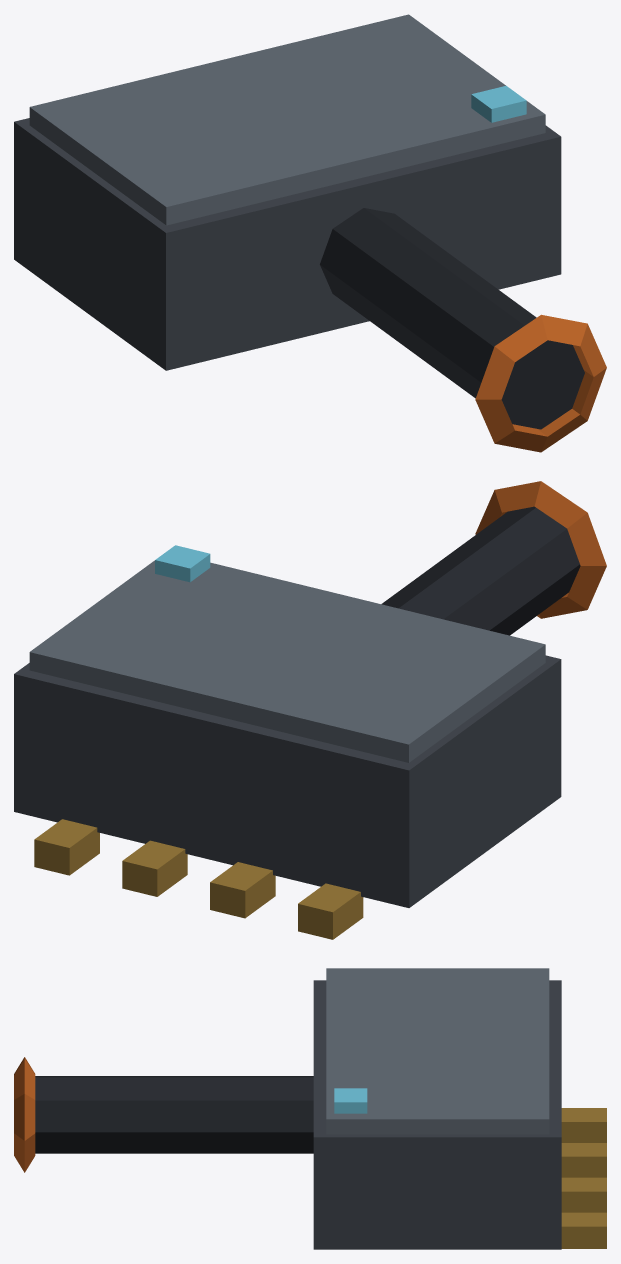
File: droid-blaster-integration.glb
3 renders of one model, top to bottom at view 1: azimuth 30°, elevation 25°; view 2: azimuth 150°, elevation 25°; view 3: azimuth 270°, elevation 25°, orthographic. The views are drawn at different scales.
Visible parts, largest first — view 1: m; view 2: m; view 3: m.
Part boxes in pixels (<box>): m: <box>14,14,606,452</box>; m: <box>14,481,606,939</box>; m: <box>14,968,606,1249</box>.
Bounding box in the file's own units: 0.1 × 0.0467 × 0.1596.
